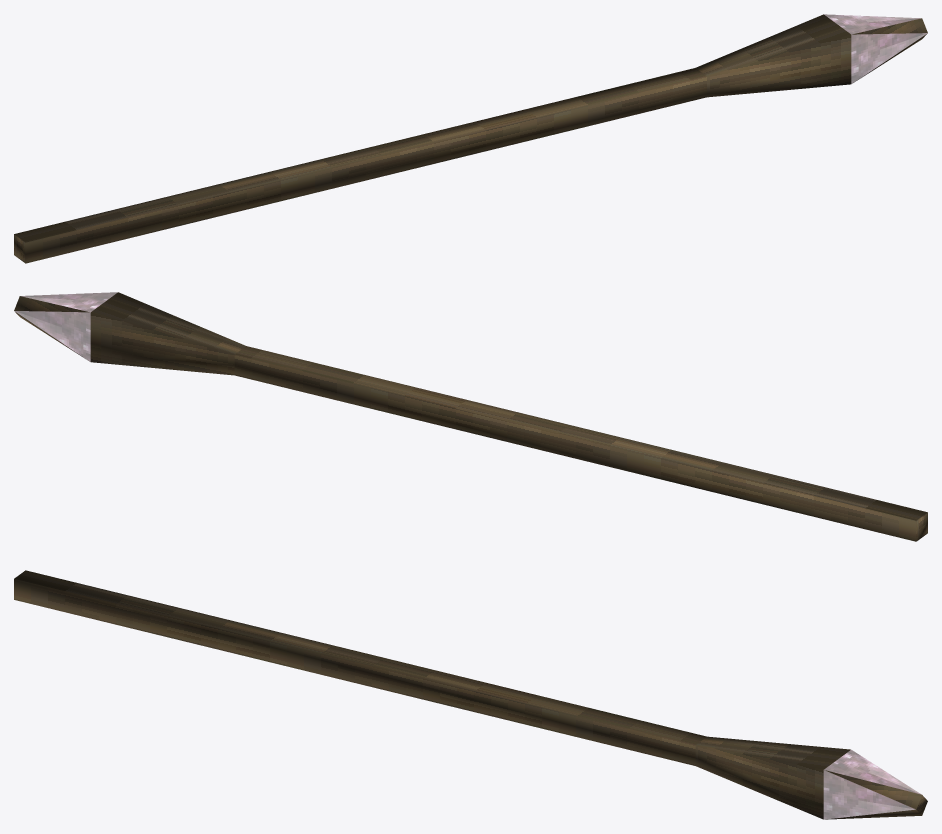
3 views of the same model, one above another, from view 1: azimuth 30°, elevation 25°; view 2: azimuth 150°, elevation 25°; view 3: azimuth 330°, elevation 25° (orthographic).
Visible parts, largest first — view 1: it45; view 2: it45; view 3: it45.
Boxes of the visible parts, <box> form: it45: <box>14,14,927,263</box>; it45: <box>14,292,927,541</box>; it45: <box>14,570,927,819</box>.
Bounding box in the file's own units: 5.89 × 0.3105 × 0.3125.
Materials: 2 (2 with a texture image).
